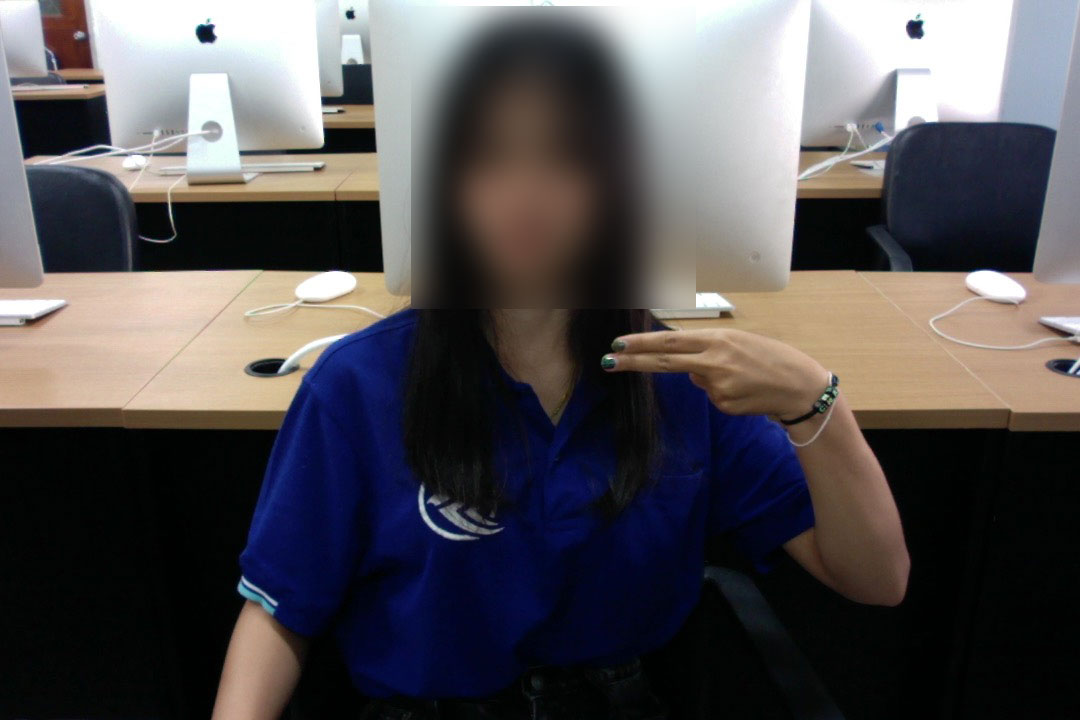hor: (596, 323, 856, 434)
